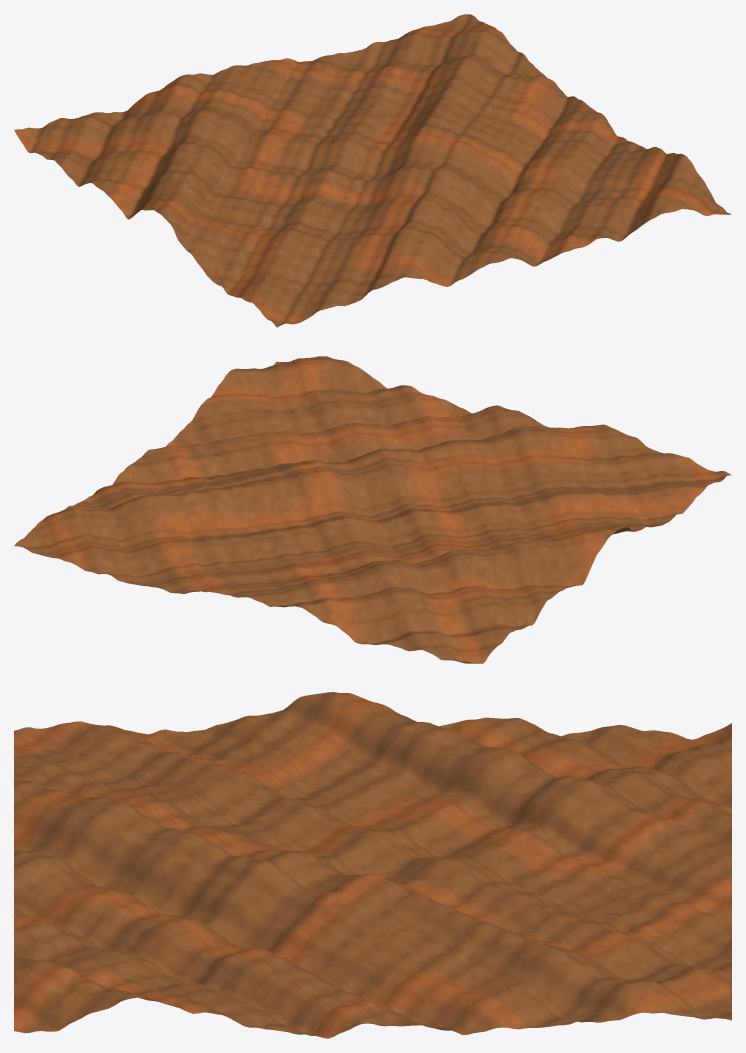
The model's file is venus_landscape.glb.
The picture shows the model from 3 angles, top to bottom: view 1: azimuth 30°, elevation 25°; view 2: azimuth 150°, elevation 25°; view 3: azimuth 270°, elevation 25°; orthographic projection. The views are drawn at different scales.
Visible parts, largest first — view 1: Venus Landscape; view 2: Venus Landscape; view 3: Venus Landscape.
Boxes of the visible parts, x1,y1,x2,y2 form: Venus Landscape: [14, 14, 731, 327]; Venus Landscape: [14, 356, 731, 663]; Venus Landscape: [14, 692, 731, 1038].
Bounding box in the file's own units: 760 × 60.47 × 760.
Materials: 1 (1 with a texture image).
